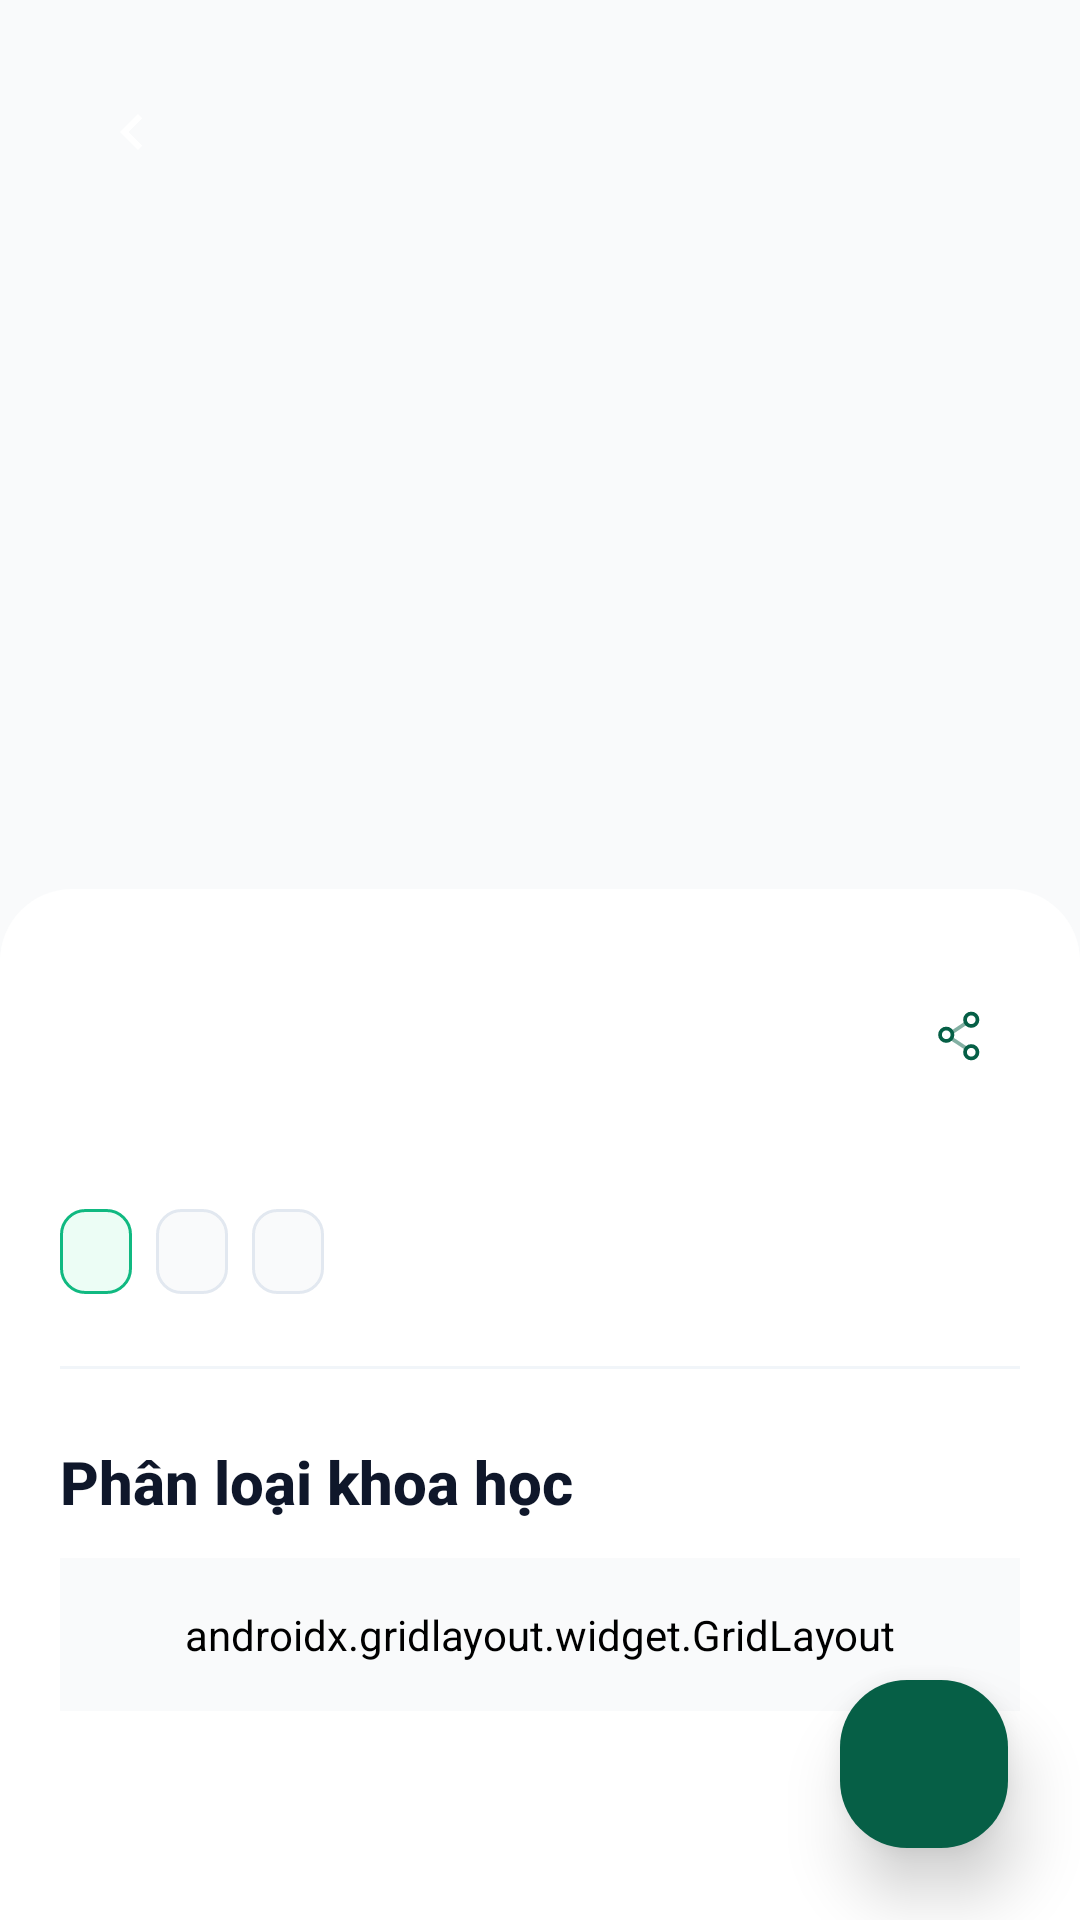

Icon bounding boxes for this 1080 x 1920 phone screenshot, format Rect(x1, y1, x2, y2):
Chia sẻ thông tin: Rect(938, 1011, 980, 1061)
